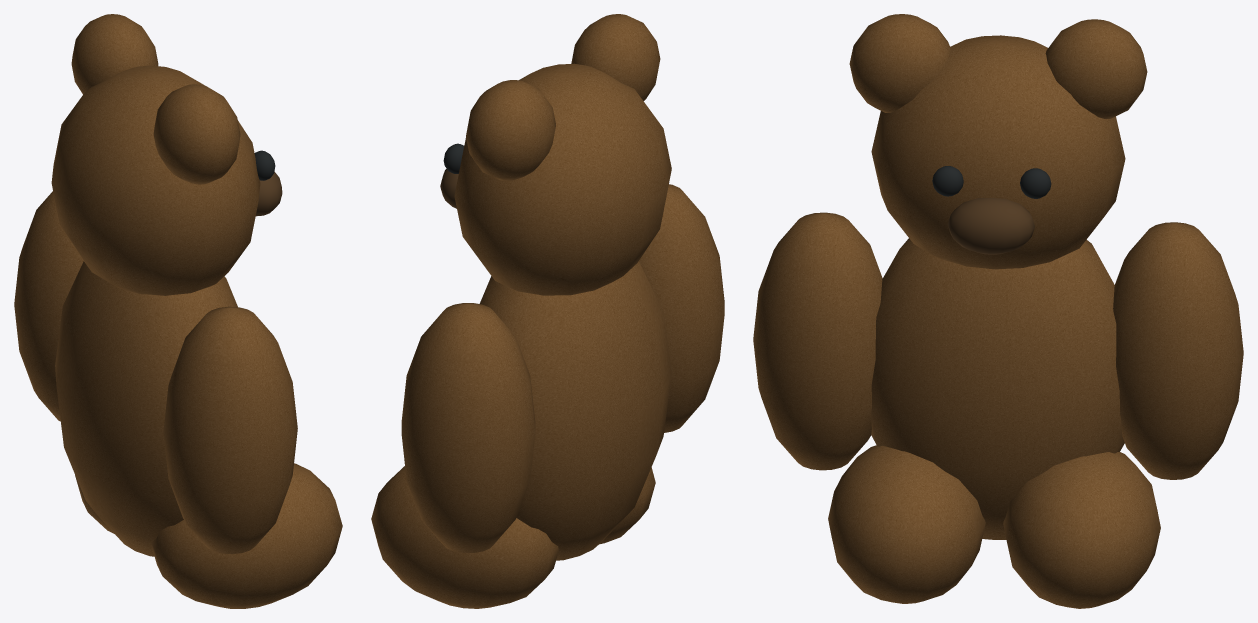
File: SM_TeddyPrize_7adfe5d511.fbx
3 renders of one model, left to right at view 1: azimuth 30°, elevation 25°; view 2: azimuth 150°, elevation 25°; view 3: azimuth 270°, elevation 25°, orthographic. The views are drawn at different scales.
Visible parts, largest first — view 1: SM_TeddyPrize_7adfe5d511; view 2: SM_TeddyPrize_7adfe5d511; view 3: SM_TeddyPrize_7adfe5d511.
Part boxes in pixels (box(x1,y1,x2,y2)): SM_TeddyPrize_7adfe5d511: box(14, 14, 342, 608); SM_TeddyPrize_7adfe5d511: box(371, 14, 724, 608); SM_TeddyPrize_7adfe5d511: box(753, 14, 1243, 608).
Size of what is drawn, in the model's own units: 30.81 by 54.52 by 67.32.
3 materials, 1 textured.
